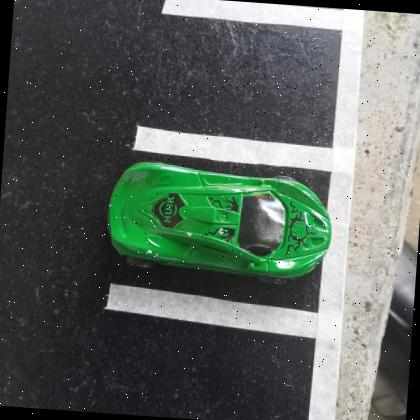Car: (107, 162, 332, 281)
